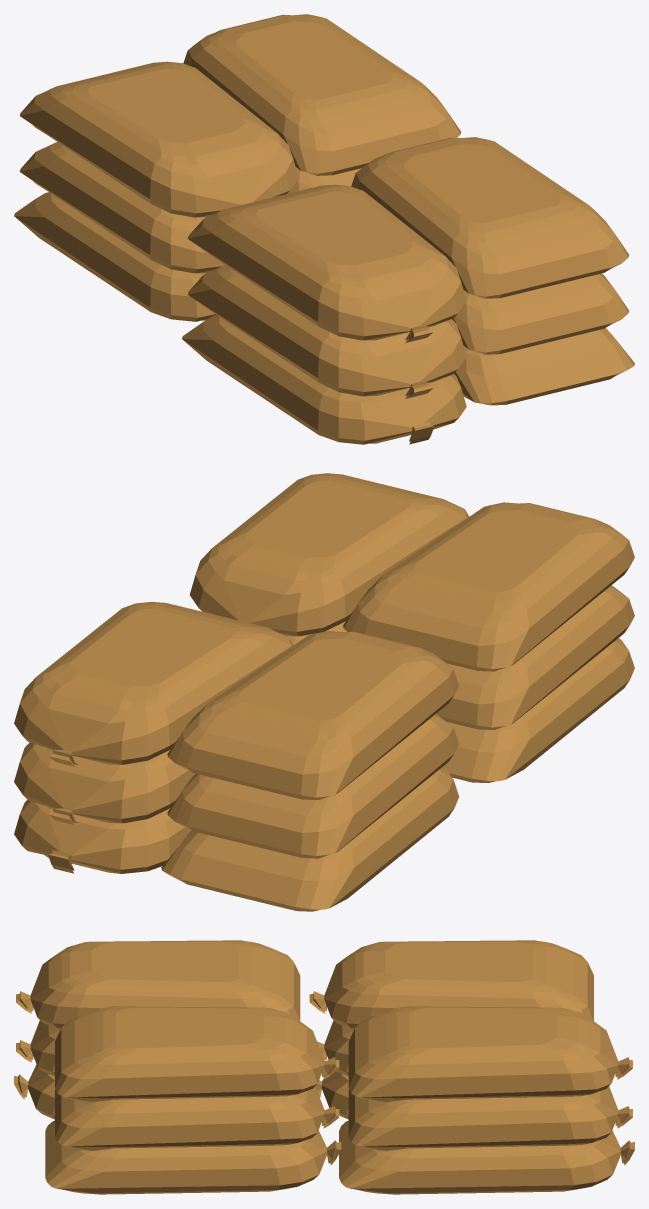
The model's file is 3D_Sandbags-4x3.fbx.
3 views of the same model, one above another, from view 1: azimuth 30°, elevation 25°; view 2: azimuth 150°, elevation 25°; view 3: azimuth 270°, elevation 25° (orthographic). The views are drawn at different scales.
Visible parts, largest first — view 1: Cube.012; view 2: Cube.012; view 3: Cube.012.
Boxes of the visible parts, <box> form: Cube.012: <box>14,14,634,444</box>; Cube.012: <box>14,473,634,911</box>; Cube.012: <box>14,940,634,1194</box>.
Bounding box in the file's own units: 71.08 × 34.59 × 139.
